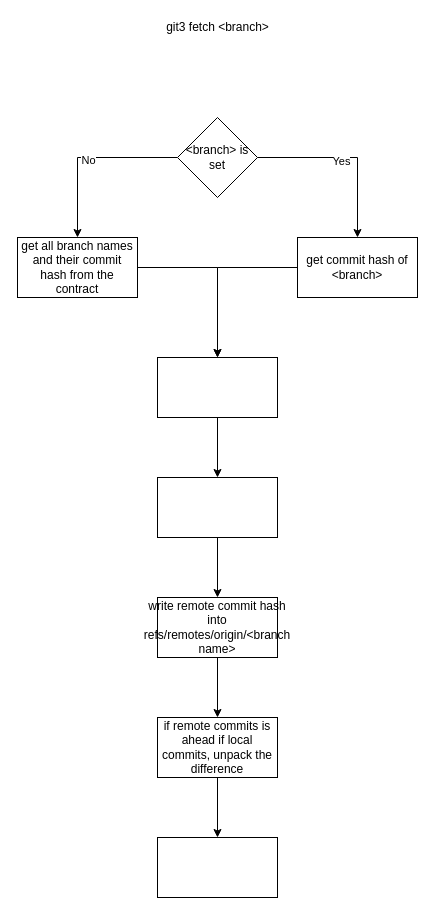
The diagram is 435 pixels wide and 915 high, and some of its shapes have lost their labels. The centre of each missing label's shape, as x and y in pixels:
get all local commits hash: pixel 217 507
get all remote commits of branch: pixel 217 387
write to FETCH_HEAD: pixel 217 867
